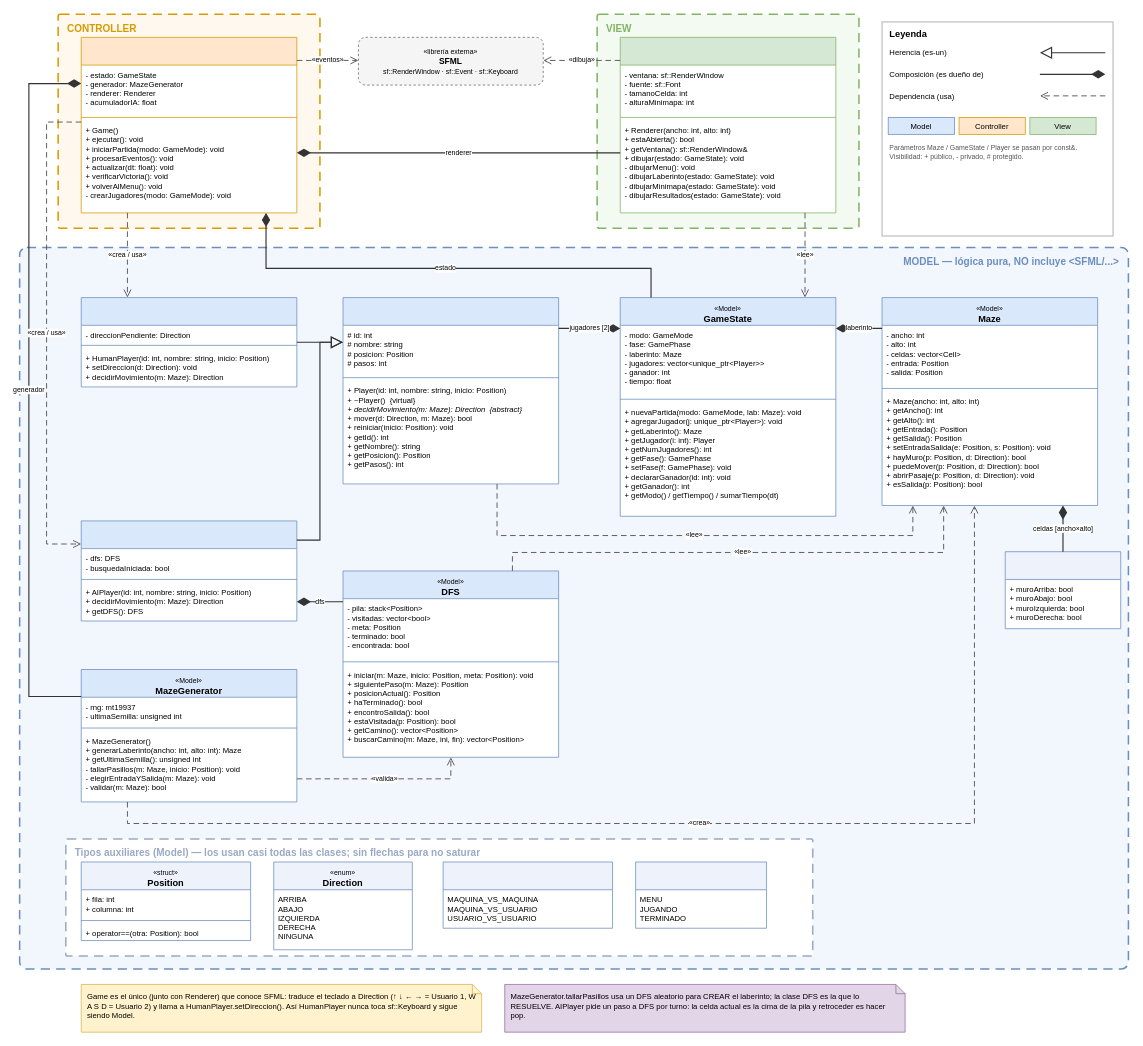
Image size: 1143x1046. Some labels were removed from this diagram. Each missing label, with the box of its shape:
«Controller» Game: (80, 37, 297, 213)
«enum» GameMode: (442, 861, 613, 928)
«enum» GamePhase: (635, 861, 767, 928)
«Model» AIPlayer: (80, 520, 297, 621)
«Model» HumanPlayer: (80, 297, 297, 387)
«Model» {abstract} Player: (342, 297, 559, 484)
«struct» Cell: (1004, 551, 1121, 629)
«View» Renderer: (619, 37, 836, 213)
